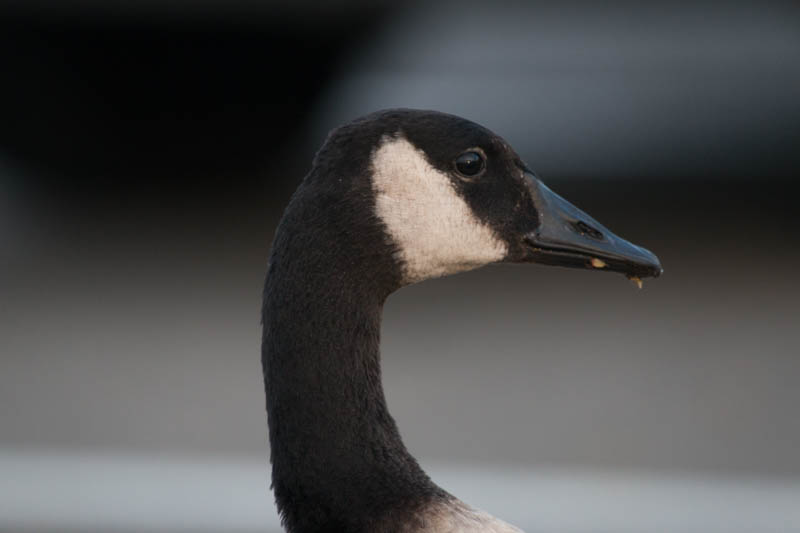goose-head: (299, 110, 663, 288)
